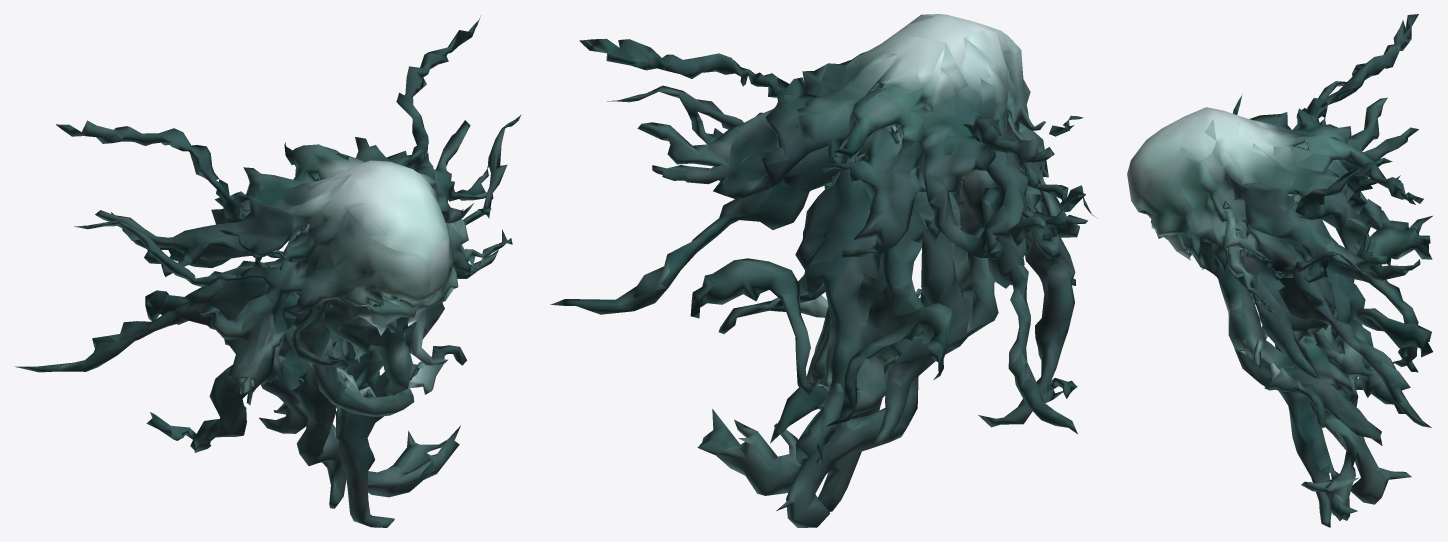
Rendered from Wisp Echo 2_final.glb.
The picture shows the model from 3 angles, left to right: view 1: azimuth 30°, elevation 25°; view 2: azimuth 150°, elevation 25°; view 3: azimuth 270°, elevation 25°; orthographic projection. The views are drawn at different scales.
Parts seen in each view (by area): view 1: Mesh1.0; view 2: Mesh1.0; view 3: Mesh1.0.
Part boxes in pixels (x1=…): Mesh1.0: x1=15, y1=16, x2=521, y2=527; Mesh1.0: x1=550, y1=14, x2=1096, y2=527; Mesh1.0: x1=1127, y1=14, x2=1432, y2=527.
Bounding box in the file's own units: 1.9 × 1.64 × 1.16.
Materials: 1 (1 with a texture image).
